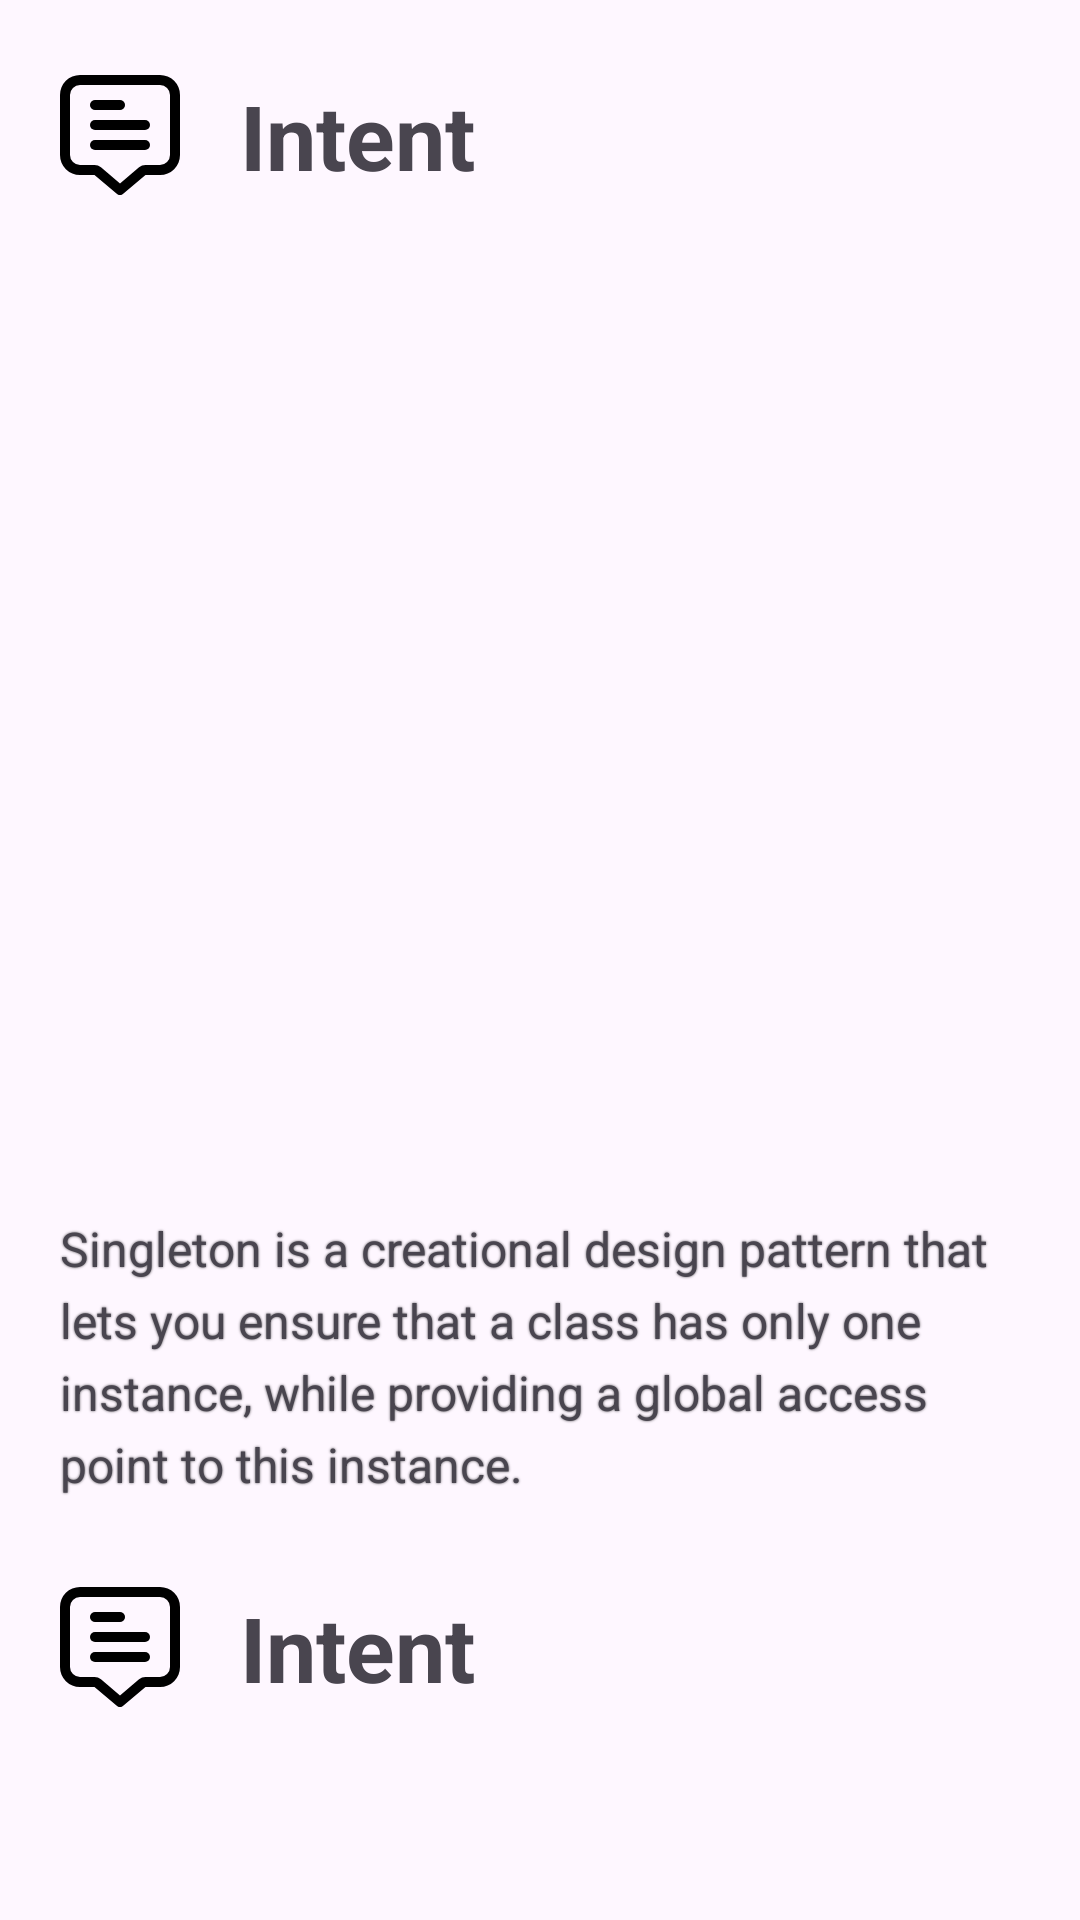

Named icons in this screenshot (1080*1920) and their bounding boxes, [x1=x1, y1=y1, x2=x2, y2=y2]:
comment: [x1=60, y1=75, x2=180, y2=195], [x1=60, y1=1587, x2=180, y2=1707]
